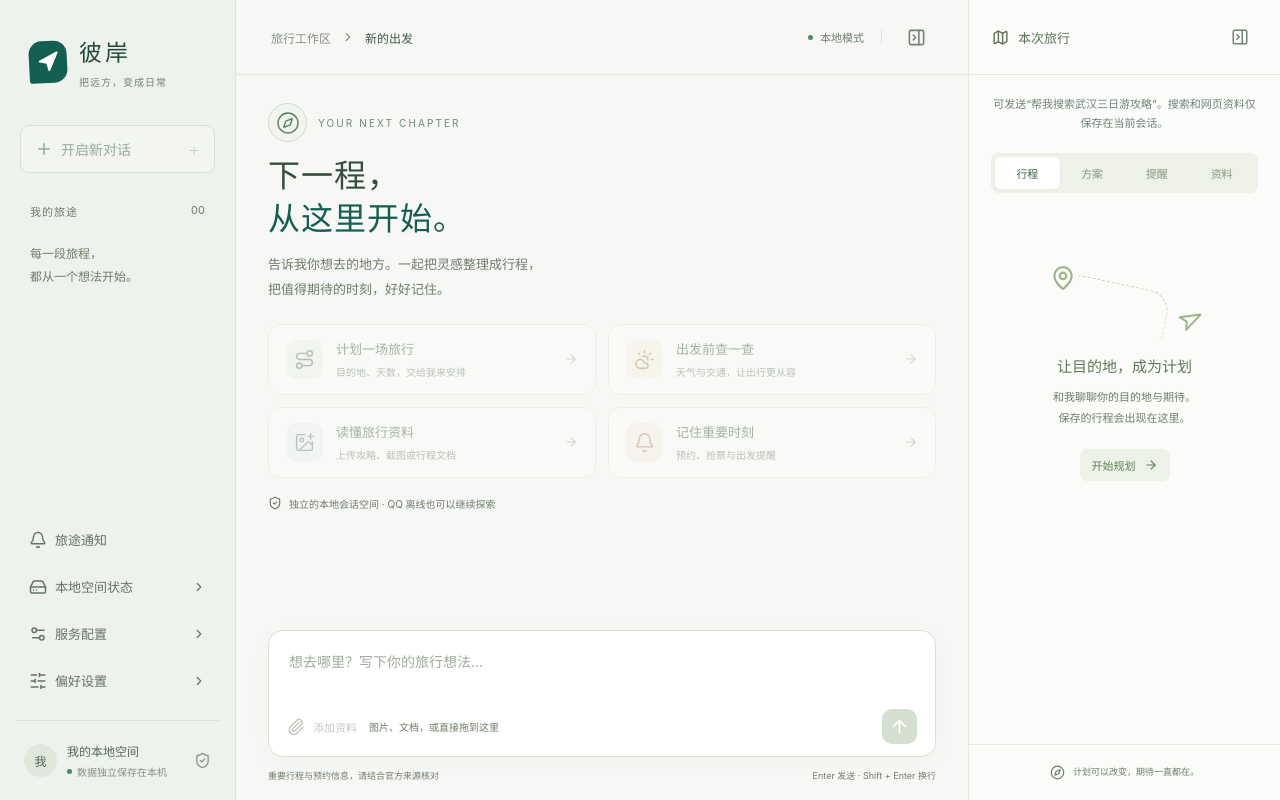
Test: local conversation interactions › shows planning drafts separately and fills an adoption request
Step 1. Click the tab "方案" → (1092, 173), box x1=1060 y1=157 x2=1125 y2=189
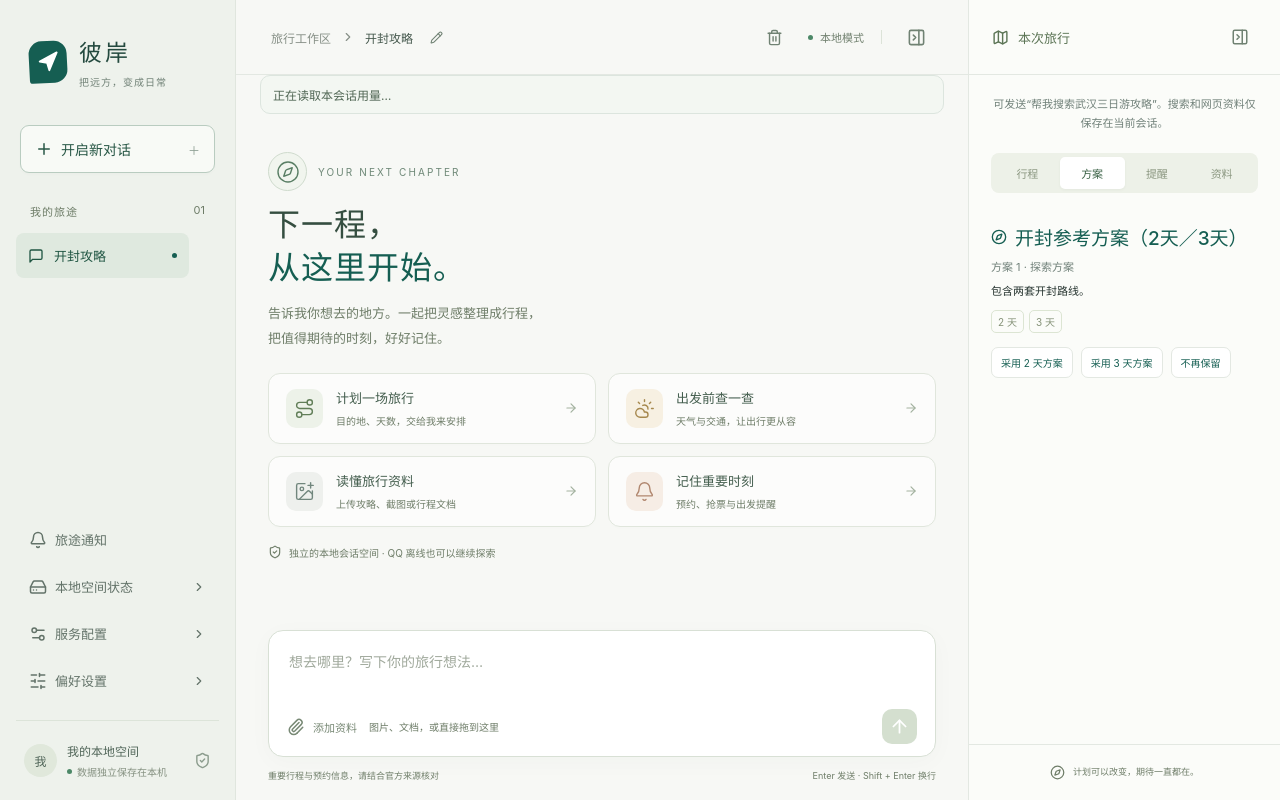
Check: the heading "开封参考方案（2天／3天）" is shown, box x1=1015 y1=223 x2=1248 y2=250
Step 2. Click the button "采用 3 天方案" → (1122, 363), box x1=1081 y1=347 x2=1162 y2=378
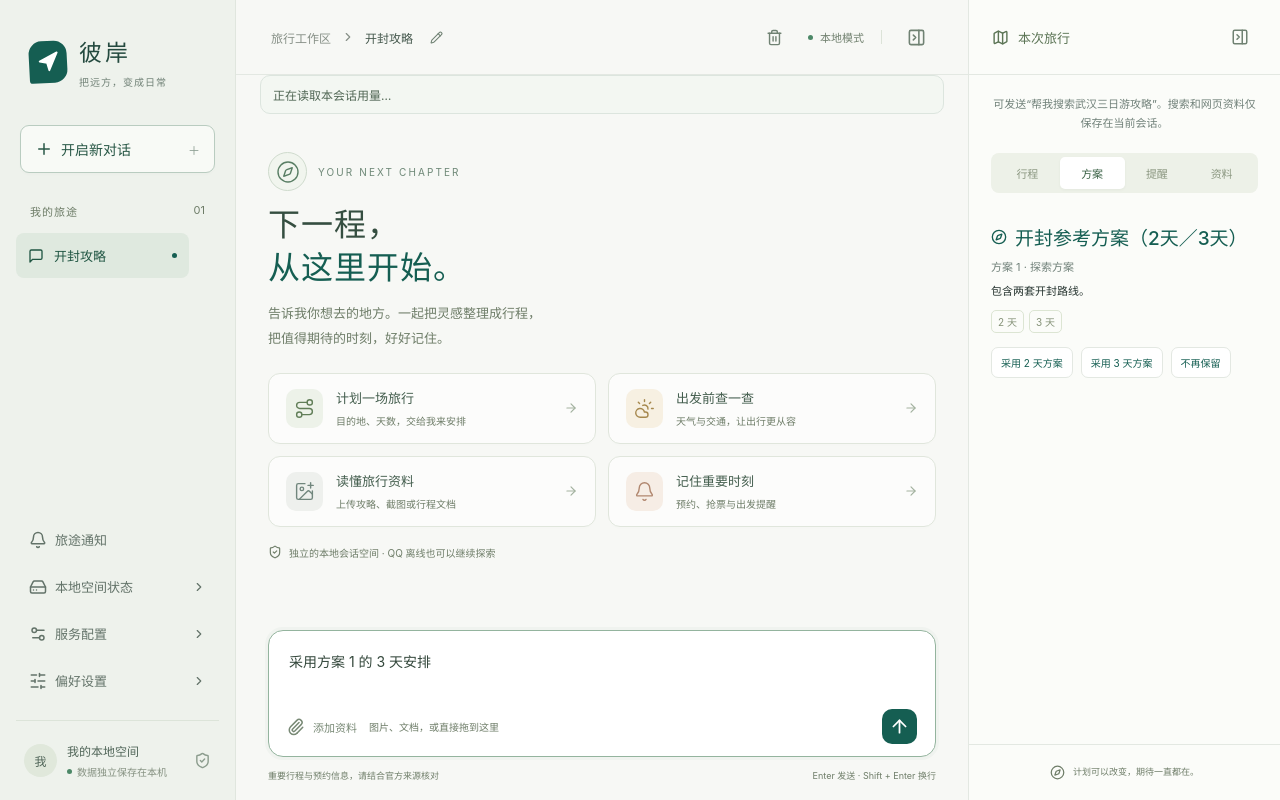
Check: the text box named "旅行问题" holds "采用方案 1 的 3 天安排", box x1=287 y1=648 x2=917 y2=700
